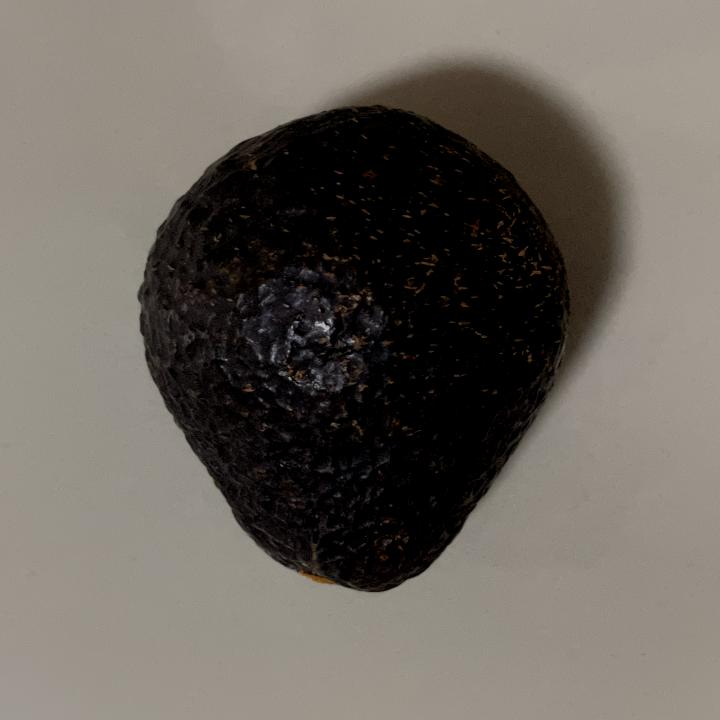Level3: (128, 96, 584, 600)
